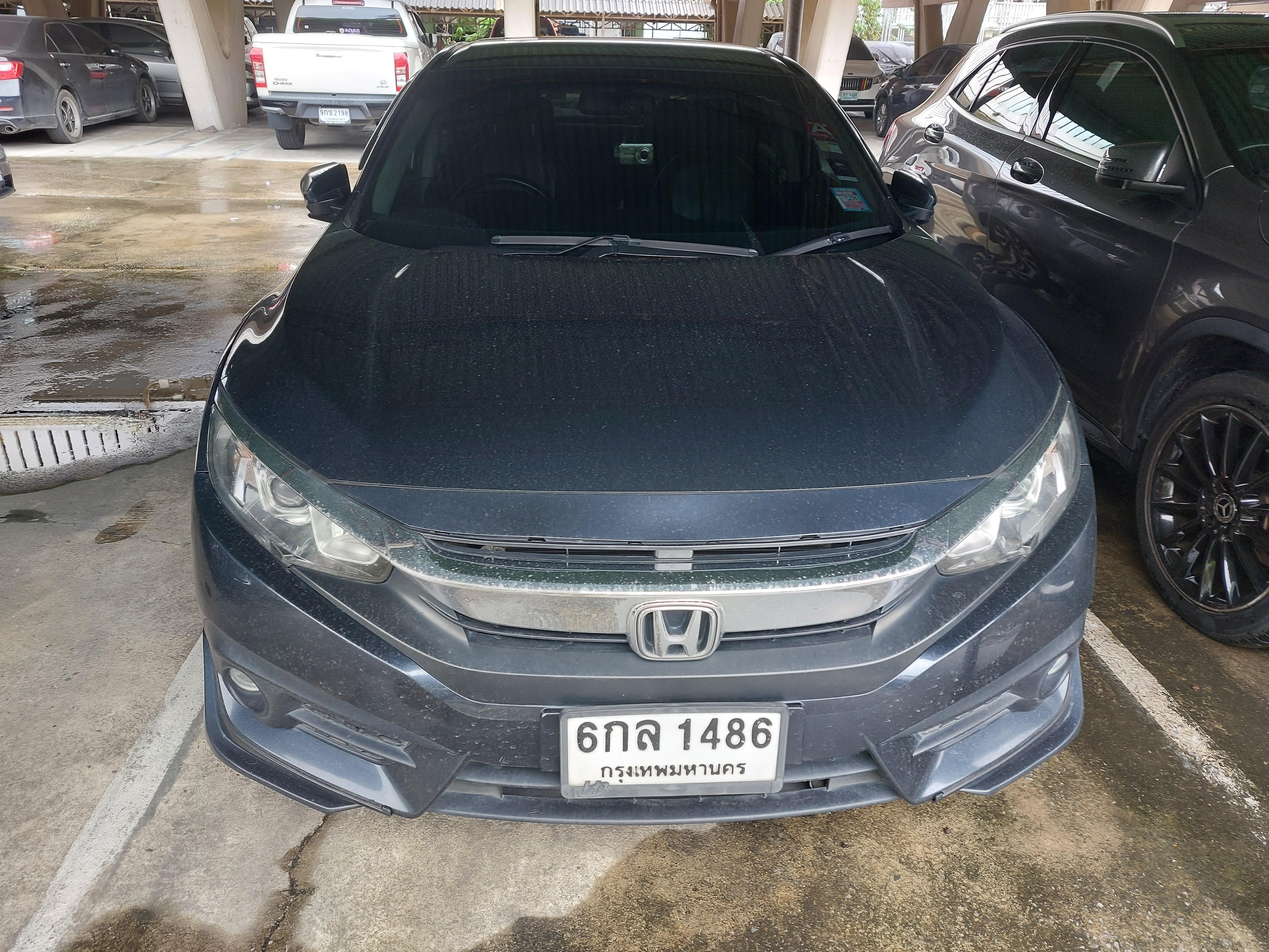license-plate: (556, 697, 799, 802), (315, 102, 353, 128)
